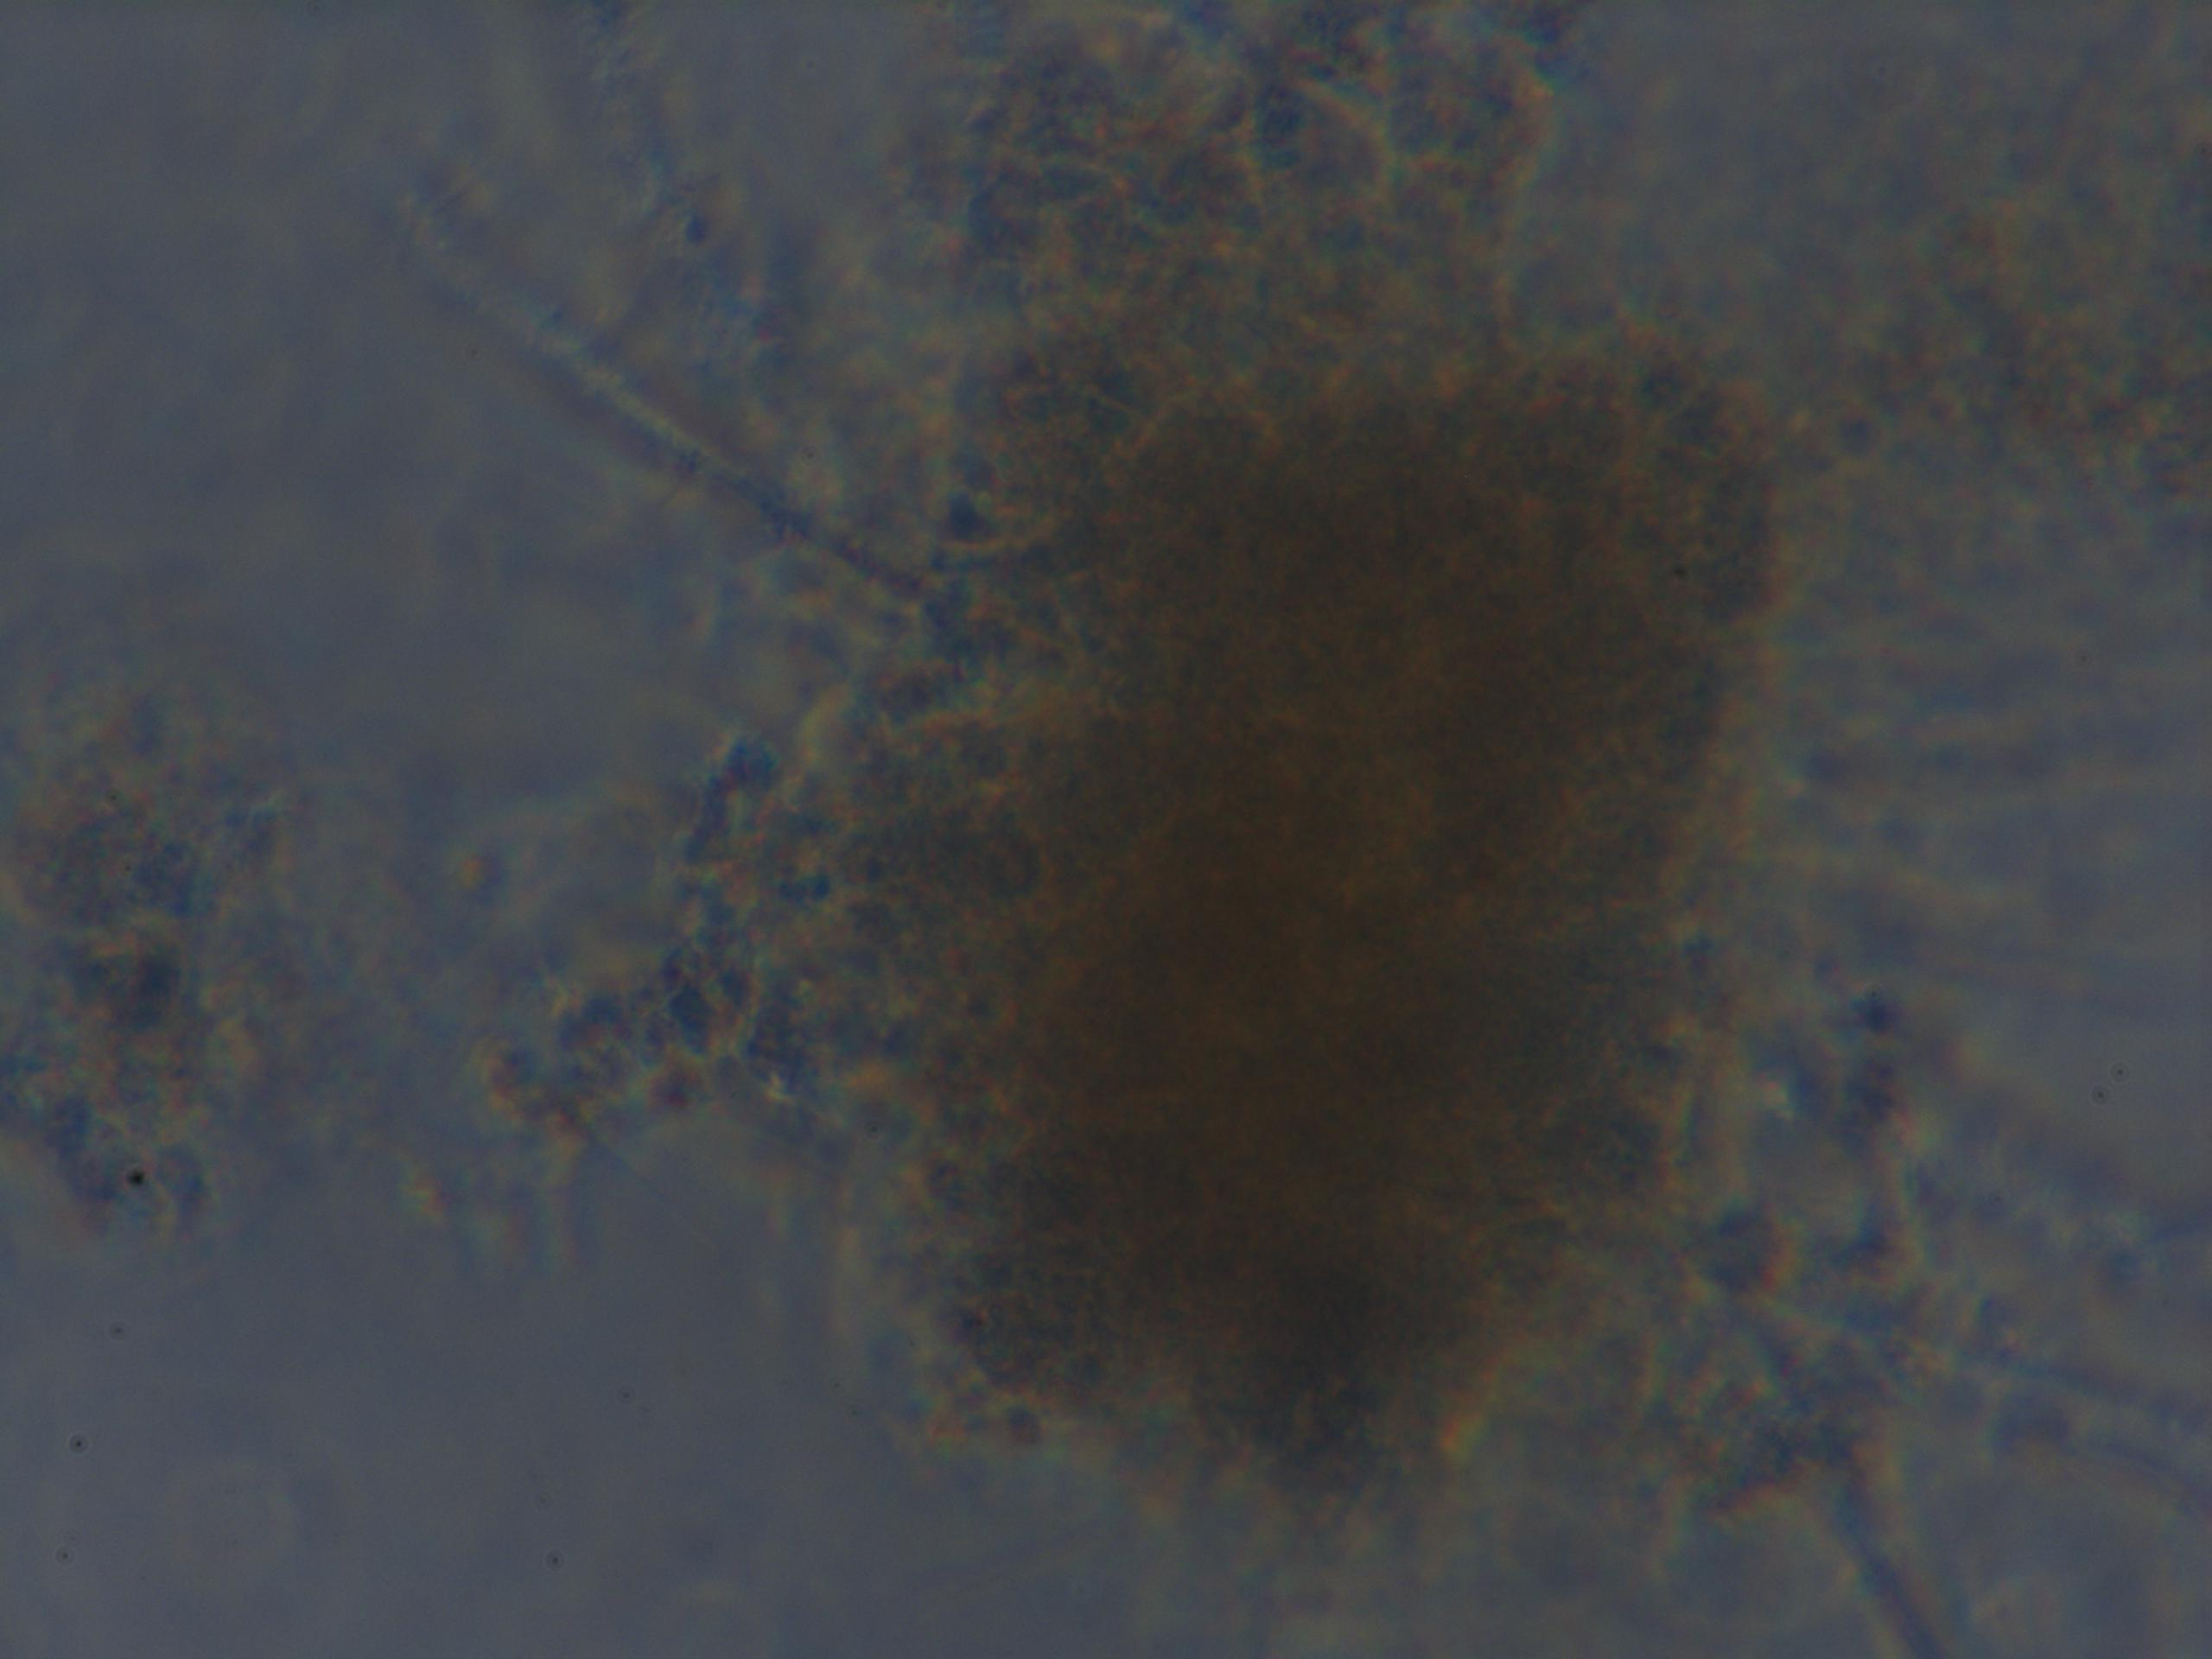filament: (350, 159, 934, 641)
spherical_floc: (853, 314, 1822, 1530)
